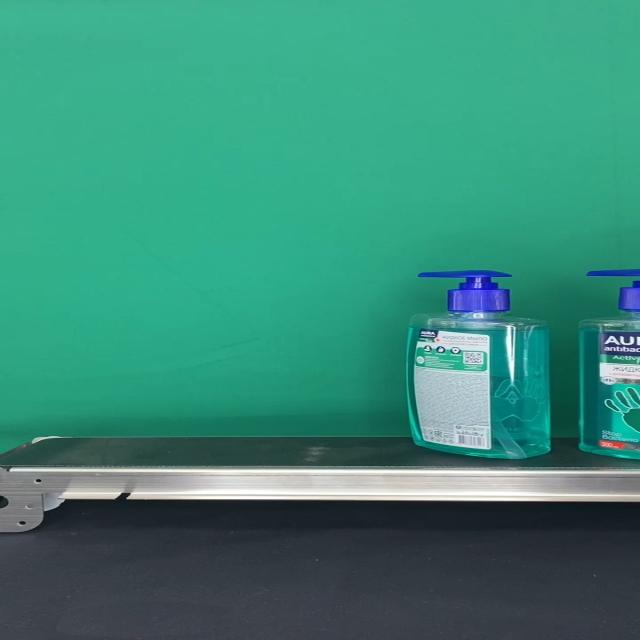Bottle: (407, 270, 551, 459)
Cap: (417, 270, 513, 312)
